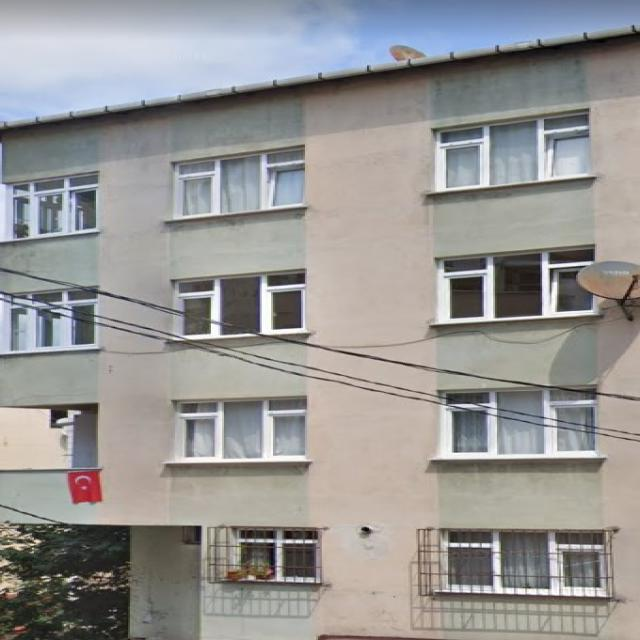Building: (0, 25, 640, 639)
